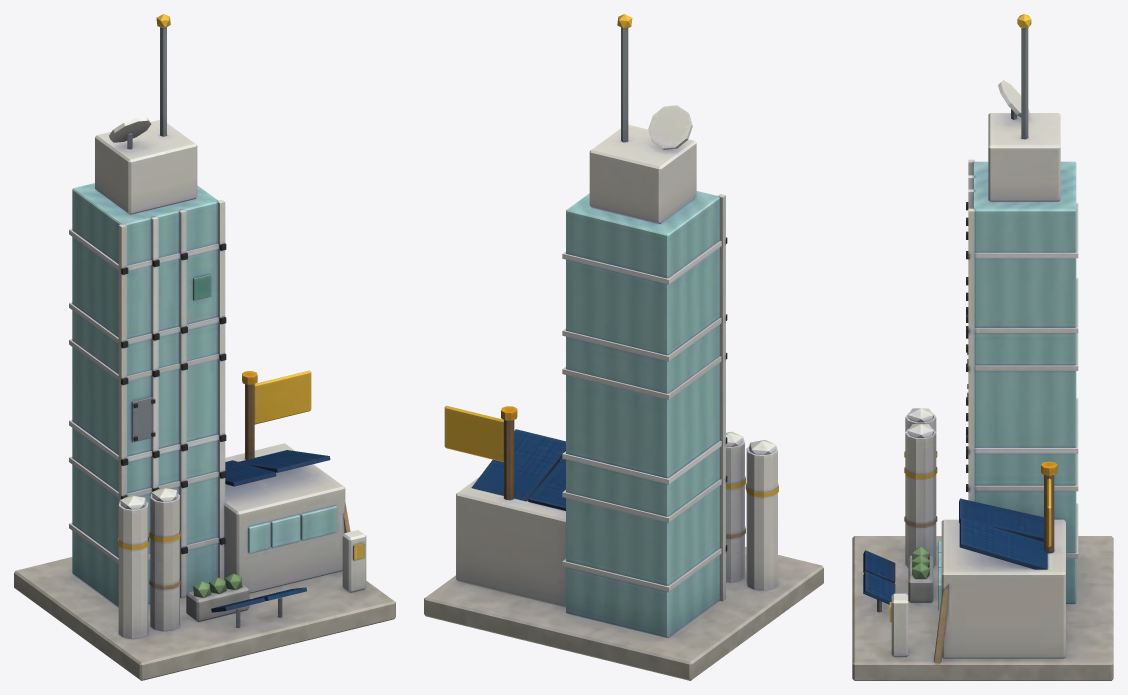
File: refinery-25.glb
The picture shows the model from 3 angles, left to right: view 1: azimuth 30°, elevation 25°; view 2: azimuth 150°, elevation 25°; view 3: azimuth 270°, elevation 25°; orthographic projection. The views are drawn at different scales.
Visible parts, largest first — view 1: refinery-25; view 2: refinery-25; view 3: refinery-25.
Boxes of the visible parts, x1,y1,x2,y2 form: refinery-25: (14,14,395,680); refinery-25: (424,14,823,680); refinery-25: (852,14,1113,680).
Size of the model in its own units: 1.52 by 3.16 by 1.26.
1 material, 1 textured.
